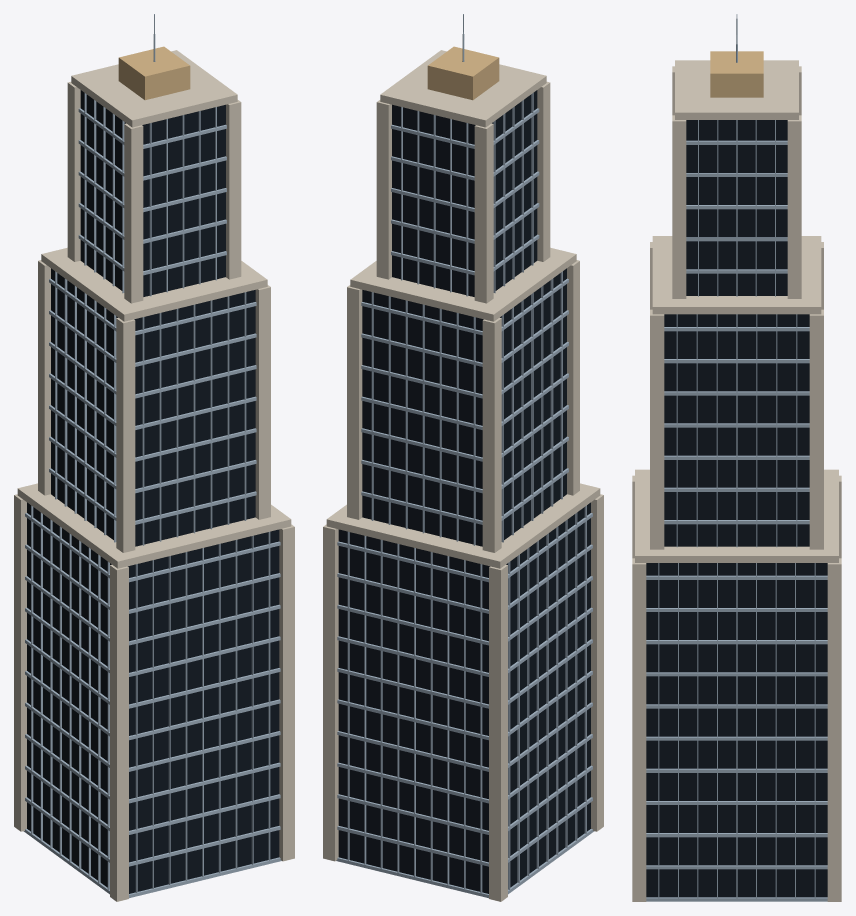
Rendered from tower_stepped.glb.
3 renders of one model, left to right at view 1: azimuth 30°, elevation 25°; view 2: azimuth 150°, elevation 25°; view 3: azimuth 270°, elevation 25°, orthographic.
Visible parts, largest first — view 1: TowerStepped; view 2: TowerStepped; view 3: TowerStepped.
Boxes of the visible parts, <box> form: TowerStepped: <box>14,14,294,901</box>; TowerStepped: <box>323,14,603,901</box>; TowerStepped: <box>632,14,841,901</box>.
Size of the model in its own units: 23.6 by 105 by 23.6.
